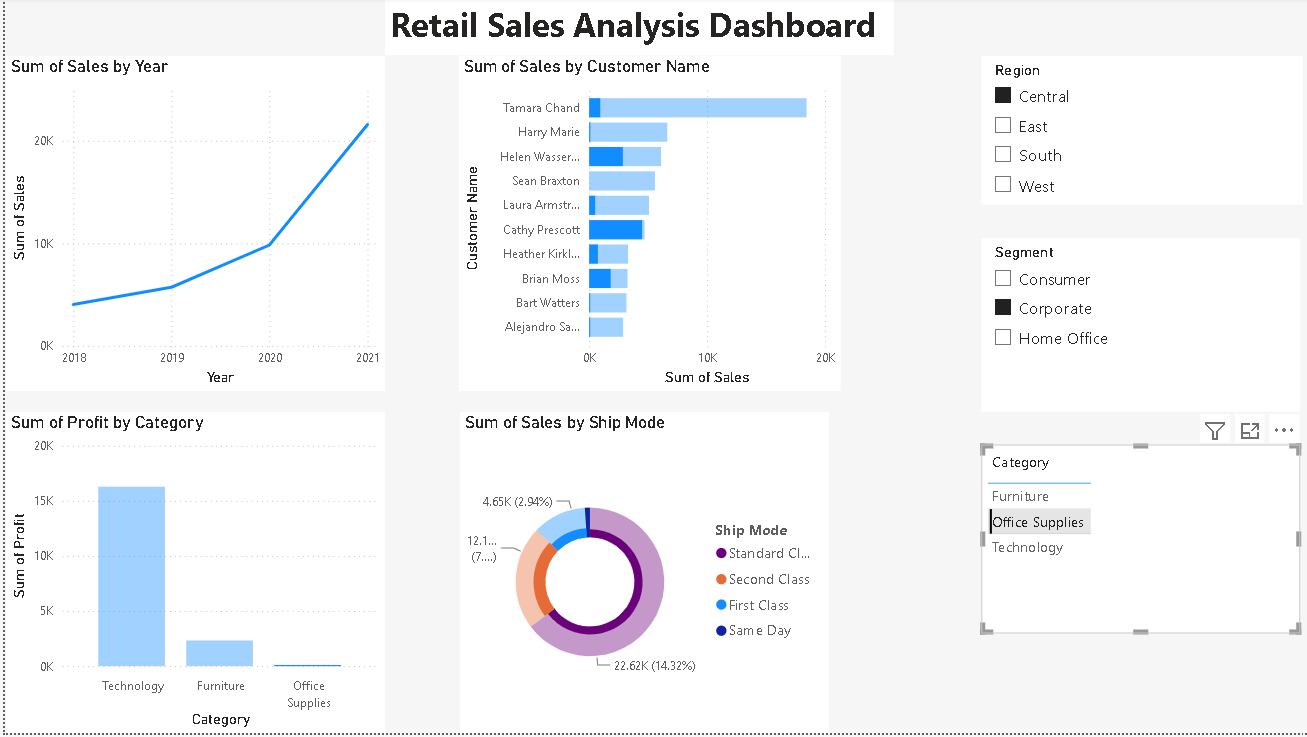

What the dashboard file says about the page in this screenshot:
{"tool":"powerbi","page":{"name":"sales_analysis","canvas":[1280,720],"ordinal":1},"visuals":[{"type":"textbox","box":[372,0,497.5,57],"z":0},{"type":"lineChart","fields":{"Y":["Sum(Sample - Superstore.Sales)"],"Category":["Sample - Superstore.Order Date.Variation.Date Hierarchy.Year","Sample - Superstore.Order Date.Variation.Date Hierarchy.Quarter","Sample - Superstore.Order Date.Variation.Date Hierarchy.Month","Sample - Superstore.Order Date.Variation.Date Hierarchy.Day"]},"box":[1.4,57,370.6,327.8],"z":1},{"type":"clusteredBarChart","fields":{"Category":["Sample - Superstore.Customer Name"],"Y":["Sum(Sample - Superstore.Sales)"]},"box":[443.3,57,373.5,327.8],"z":2},{"type":"clusteredColumnChart","fields":{"Category":["Sample - Superstore.Category"],"Y":["Sum(Sample - Superstore.Profit)"]},"box":[1.4,406.2,370.6,313.6],"z":3},{"type":"donutChart","fields":{"Category":["Sample - Superstore.Ship Mode"],"Y":["Sum(Sample - Superstore.Sales)"]},"box":[444.7,406.2,360.6,313.6],"z":4},{"type":"slicer","fields":{"Values":["Sample - Superstore.Region"]},"box":[955.1,57.6,315.1,145.9],"z":5},{"type":"slicer","fields":{"Values":["Sample - Superstore.Segment"]},"box":[955,236.6,312.2,169.6],"z":6},{"type":"tableEx","fields":{"Values":["Sample - Superstore.Category"]},"box":[955,437.6,312.2,185.3],"z":7}]}

Visuals, with their boxes in screenshot pixels (x1, y1, x2, y2), scaled from the page's 1280x720 canvas onto the 1307x737 screenshot:
textbox: bbox(380, 0, 888, 58)
lineChart - Sum(Sample - Superstore.Sales) x Sample - Superstore.Order Date.Variation.Date Hierarchy.Year: bbox(1, 58, 380, 394)
clusteredBarChart - Sample - Superstore.Customer Name x Sum(Sample - Superstore.Sales): bbox(453, 58, 834, 394)
clusteredColumnChart - Sample - Superstore.Category x Sum(Sample - Superstore.Profit): bbox(1, 416, 380, 736)
donutChart - Sample - Superstore.Ship Mode x Sum(Sample - Superstore.Sales): bbox(454, 416, 822, 736)
slicer - Sample - Superstore.Region: bbox(975, 59, 1297, 208)
slicer - Sample - Superstore.Segment: bbox(975, 242, 1294, 416)
tableEx - Sample - Superstore.Category: bbox(975, 448, 1294, 638)
